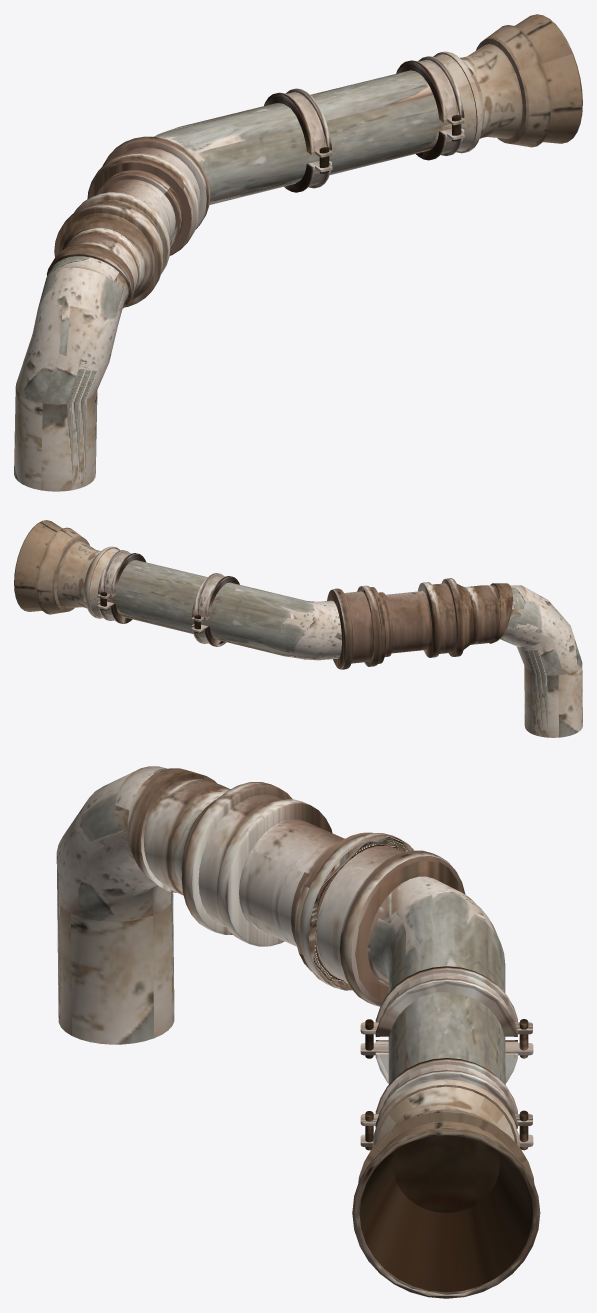
File: WHITE THICK ONE.fbx
3 views of the same model, one above another, from view 1: azimuth 30°, elevation 25°; view 2: azimuth 150°, elevation 25°; view 3: azimuth 270°, elevation 25° (orthographic). The views are drawn at different scales.
Visible parts, largest first — view 1: WHITE THICK ONE.001; view 2: WHITE THICK ONE.001; view 3: WHITE THICK ONE.001.
Part boxes in pixels (x1,y1,x2,y2): WHITE THICK ONE.001: [14, 14, 582, 491]; WHITE THICK ONE.001: [14, 520, 582, 737]; WHITE THICK ONE.001: [56, 766, 540, 1298].
Size of the model in its own units: 15.82 by 5.19 by 7.21.
